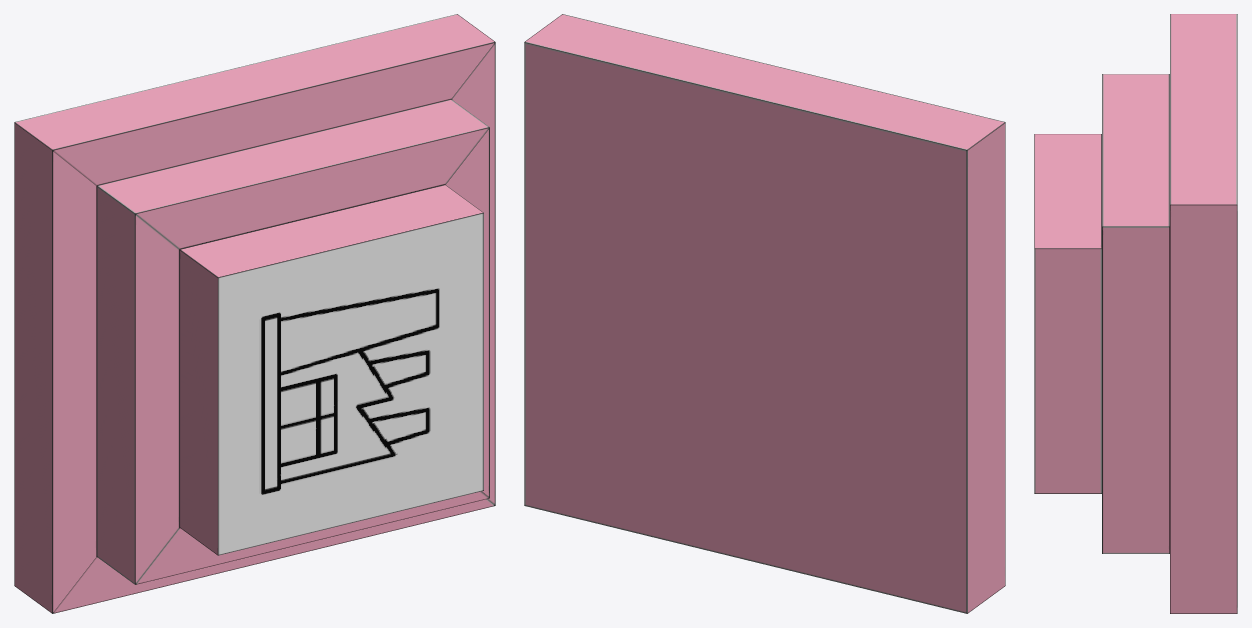
The model's file is CarbonLevel3_rot_2_3.fbx.
3 views of the same model, side by side, from view 1: azimuth 30°, elevation 25°; view 2: azimuth 150°, elevation 25°; view 3: azimuth 270°, elevation 25° (orthographic). The views are drawn at different scales.
Parts seen in each view (by area): view 1: Plane; view 2: Plane; view 3: Plane.
Part boxes in pixels (x1,y1,x2,y2): Plane: [14, 14, 495, 613]; Plane: [524, 14, 1005, 613]; Plane: [1034, 14, 1237, 613].
Bounding box in the file's own units: 460 × 460 × 207.
1 material, 1 textured.
